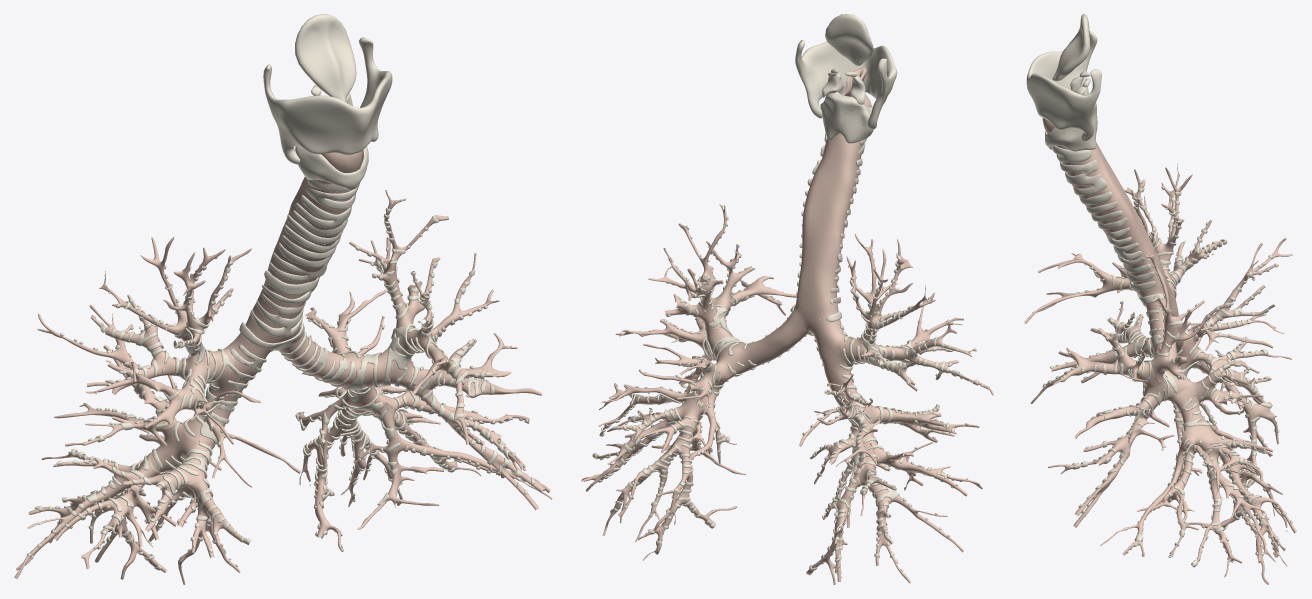
File: bedside-airway.glb
3 views of the same model, side by side, from view 1: azimuth 30°, elevation 25°; view 2: azimuth 150°, elevation 25°; view 3: azimuth 270°, elevation 25° (orthographic). The views are drawn at different scales.
Visible parts, largest first — view 1: airway, cartilage; view 2: airway, cartilage; view 3: airway, cartilage.
Part boxes in pixels (<box>): airway: <box>14,150,552,584</box>; cartilage: <box>27,14,544,570</box>; airway: <box>581,67,993,584</box>; cartilage: <box>592,14,983,575</box>; airway: <box>1024,118,1296,584</box>; cartilage: <box>1026,14,1292,567</box>.
Size of the model in its own units: 2.28 by 2.82 by 1.41.
